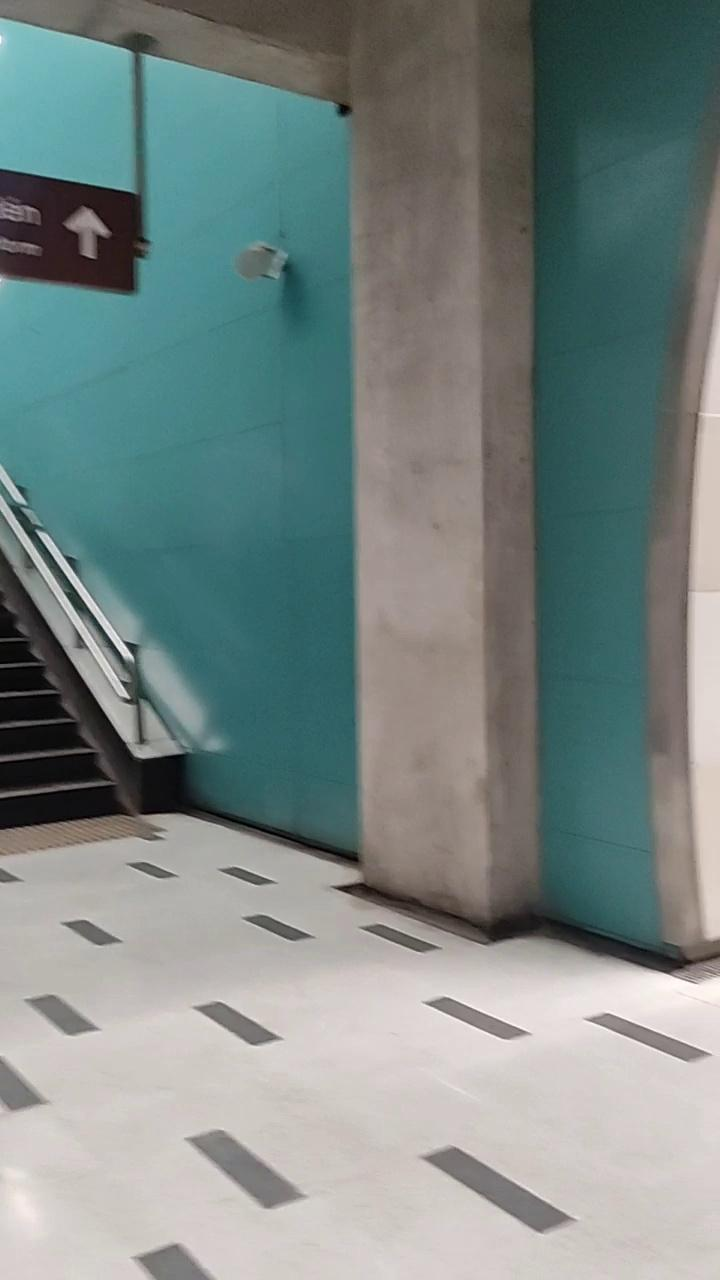up arrow: (62, 200, 112, 268)
